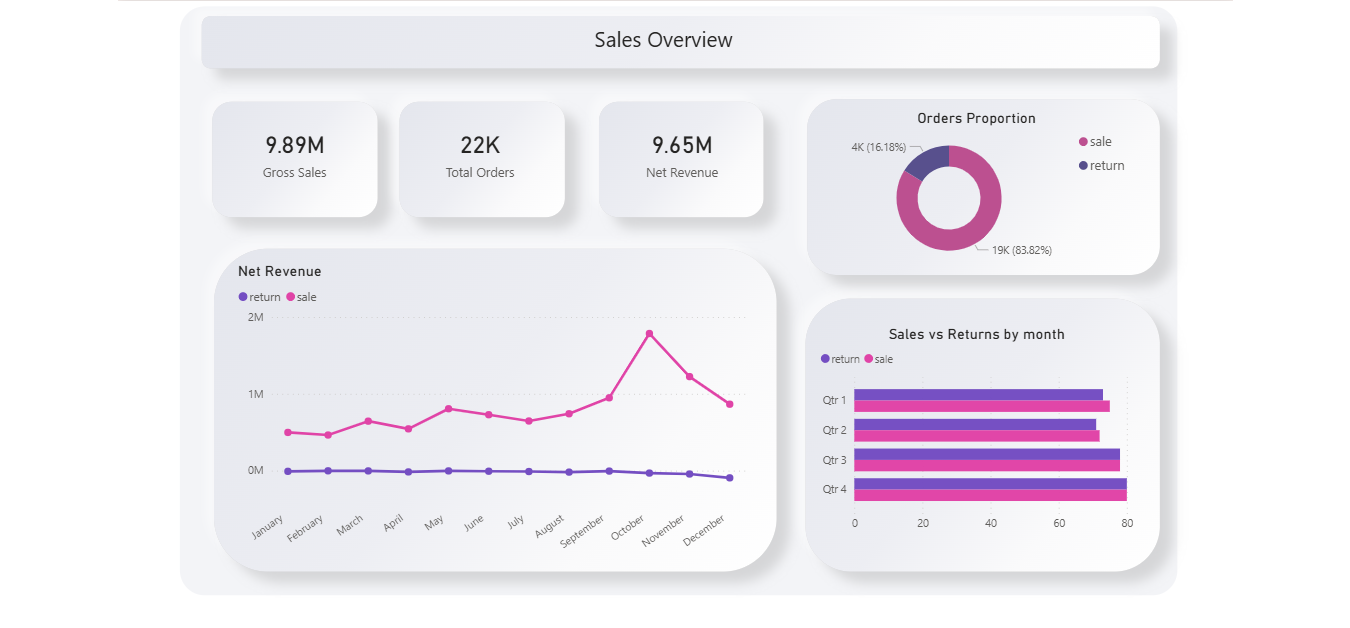

This screenshot's page, from the dashboard's own definition file:
{"tool":"powerbi","page":{"name":"Sales Overview","canvas":[1280,720],"ordinal":0},"visuals":[{"type":"card","fields":{"Values":["Sum(sales_summary.gross_sales)"]},"box":[104.7,123.3,200,100],"z":0},{"type":"card","fields":{"Values":["Sum(sales_summary.total_orders)"]},"box":[315.1,123.3,201.2,100],"z":1000},{"type":"lineChart","title":"Net Revenue","fields":{"Category":["sales_summary.order_date.Variation.Date Hierarchy.Month"],"Y":["Sum(sales_summary.net_revenue)"],"Series":["sales_summary.transaction_type"]},"box":[134.9,298.8,590.7,350],"z":2000},{"type":"card","fields":{"Values":["Sum(sales_summary.net_revenue)"]},"box":[547.7,123.3,200,100],"z":3000},{"type":"donutChart","title":"Orders Proportion","fields":{"Category":["sales_summary.transaction_type"],"Y":["Sum(sales_summary.total_orders)"]},"box":[800,123.3,367.4,186],"z":4000},{"type":"textbox","box":[183,12,886,77.9],"z":5000},{"type":"clusteredBarChart","title":"Sales vs Returns by month","fields":{"Y":["CountNonNull(sales_summary.transaction_type)"],"Series":["sales_summary.transaction_type"],"Category":["sales_summary.order_date.Variation.Date Hierarchy.Quarter"]},"box":[800,369.8,367.4,245.3],"z":6000}]}

Visuals, with their boxes on the page's 1280x720 design canvas (x1, y1, x2, y2). These are canvas units, not pixel positions in the 1350x628 screenshot, which may show the page scaled, cropped or inside an application window:
card - Sum(sales_summary.gross_sales): 105, 123, 305, 223
card - Sum(sales_summary.total_orders): 315, 123, 516, 223
"Net Revenue" lineChart: 135, 299, 726, 649
card - Sum(sales_summary.net_revenue): 548, 123, 748, 223
"Orders Proportion" donutChart: 800, 123, 1167, 309
textbox: 183, 12, 1069, 90
"Sales vs Returns by month" clusteredBarChart: 800, 370, 1167, 615
